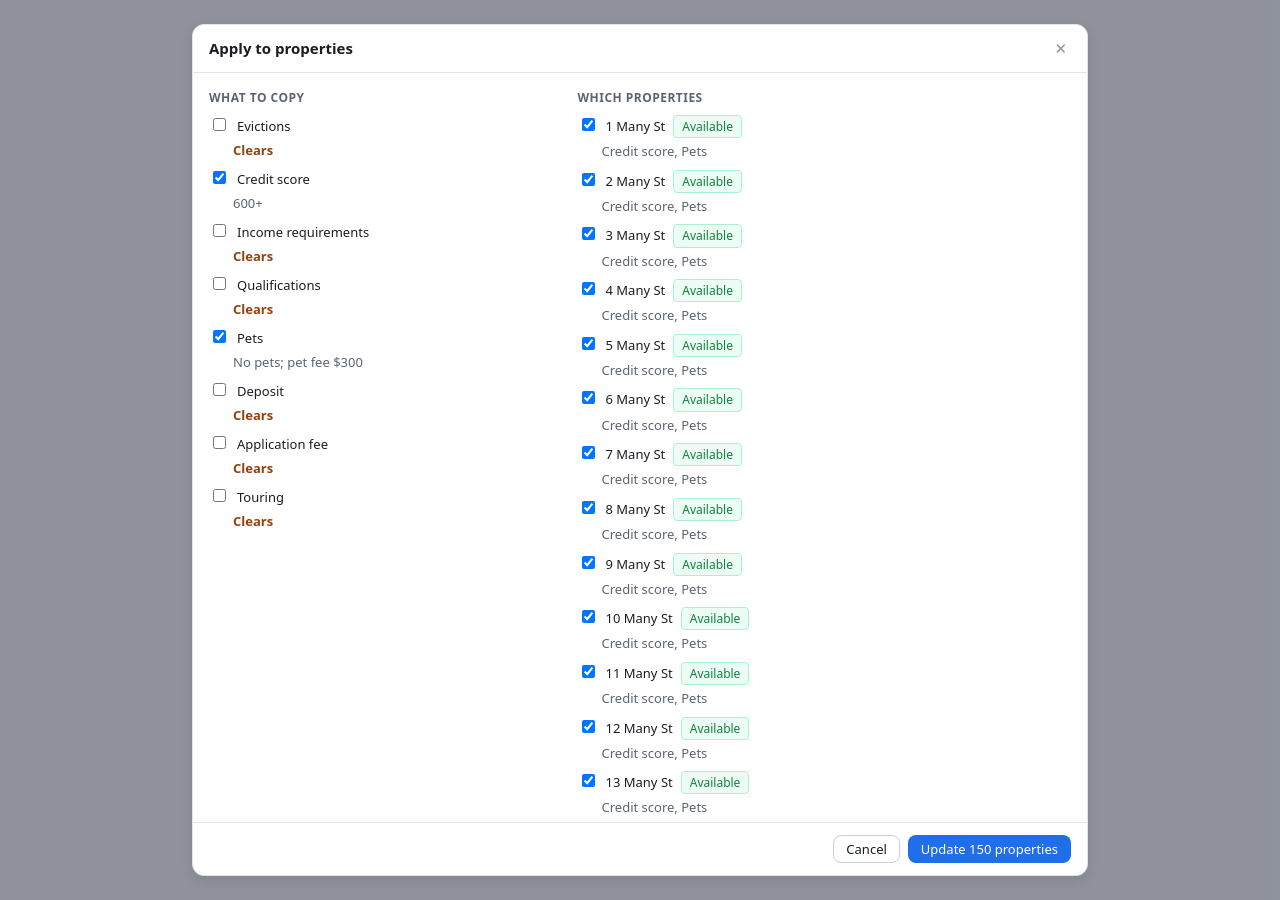
it: ApplyRequirementsDialog - the rows staff unchecked across a re-read (worklist OR-32) › after a mid-run stop: the row staff unchecked stays unchecked and the button counts without it
Click the checkbox labelled "2 Many St" at (588,179), box [582, 173, 594, 186]
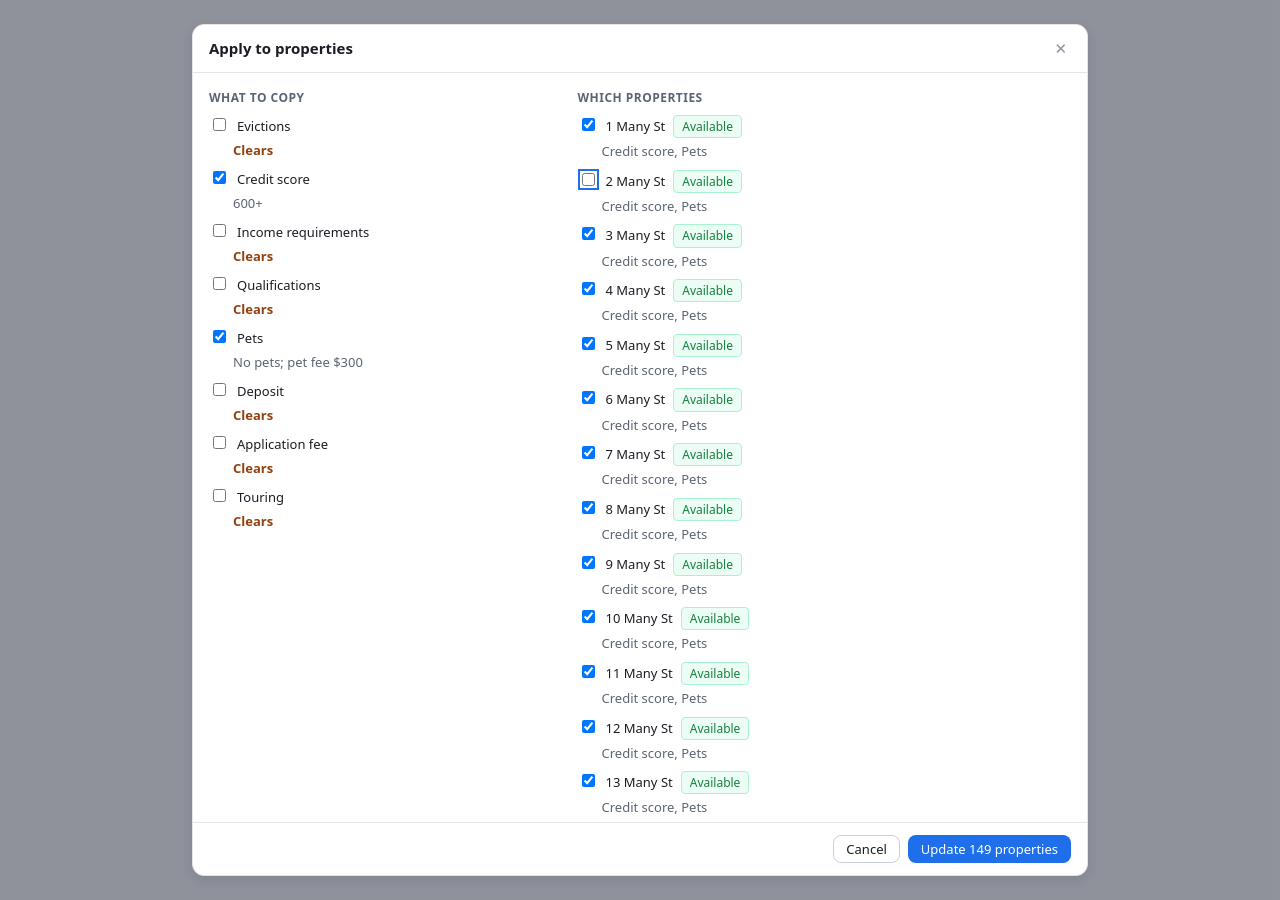
Click the button "Update 149 properties" at (989,849), box [908, 835, 1071, 863]
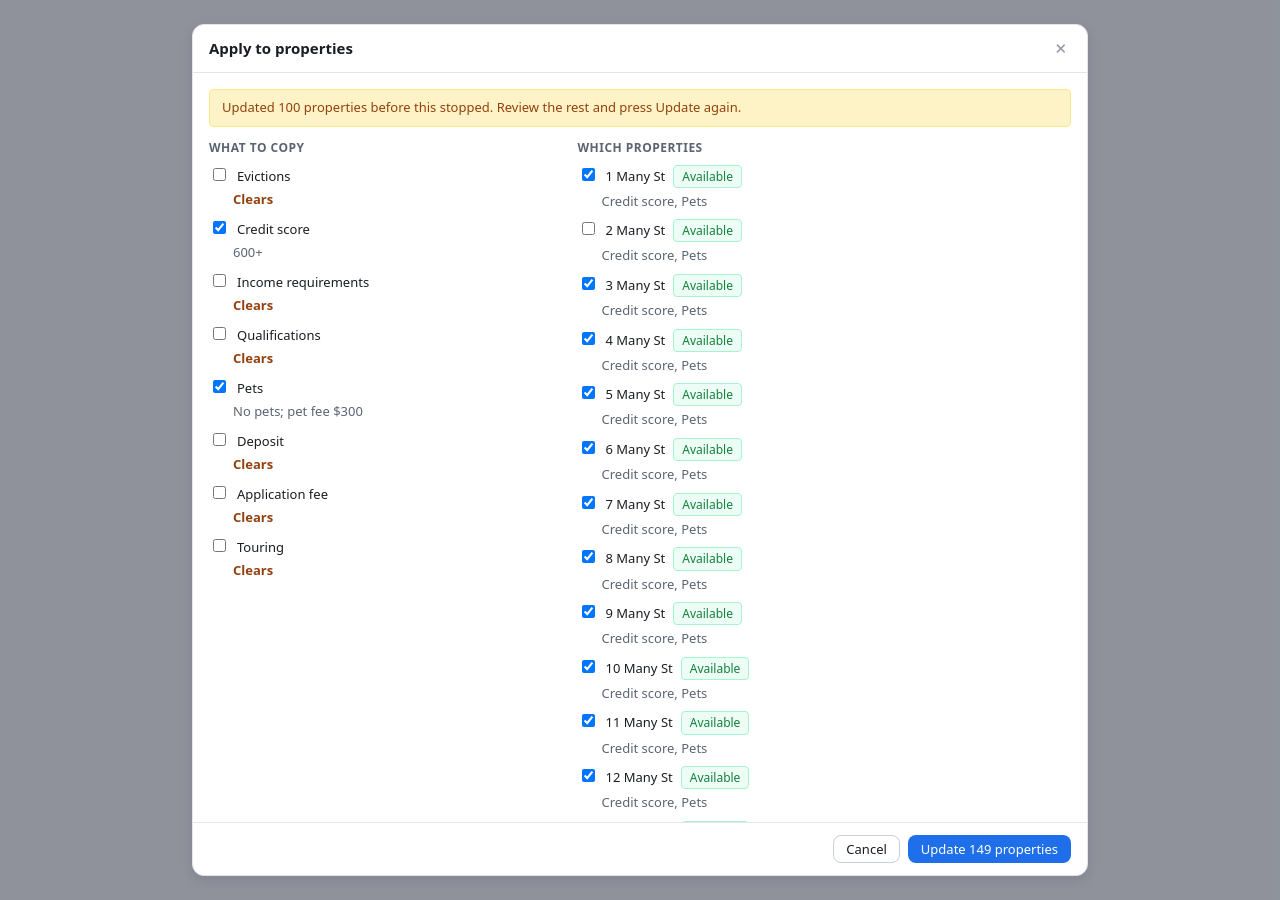
Expected: the checkbox labelled "2 Many St" is not checked, [582, 222, 594, 235]
Expected: the text "Updated 100 properties before this stopped. Review the rest and press Update again." is shown, [222, 98, 741, 116]
